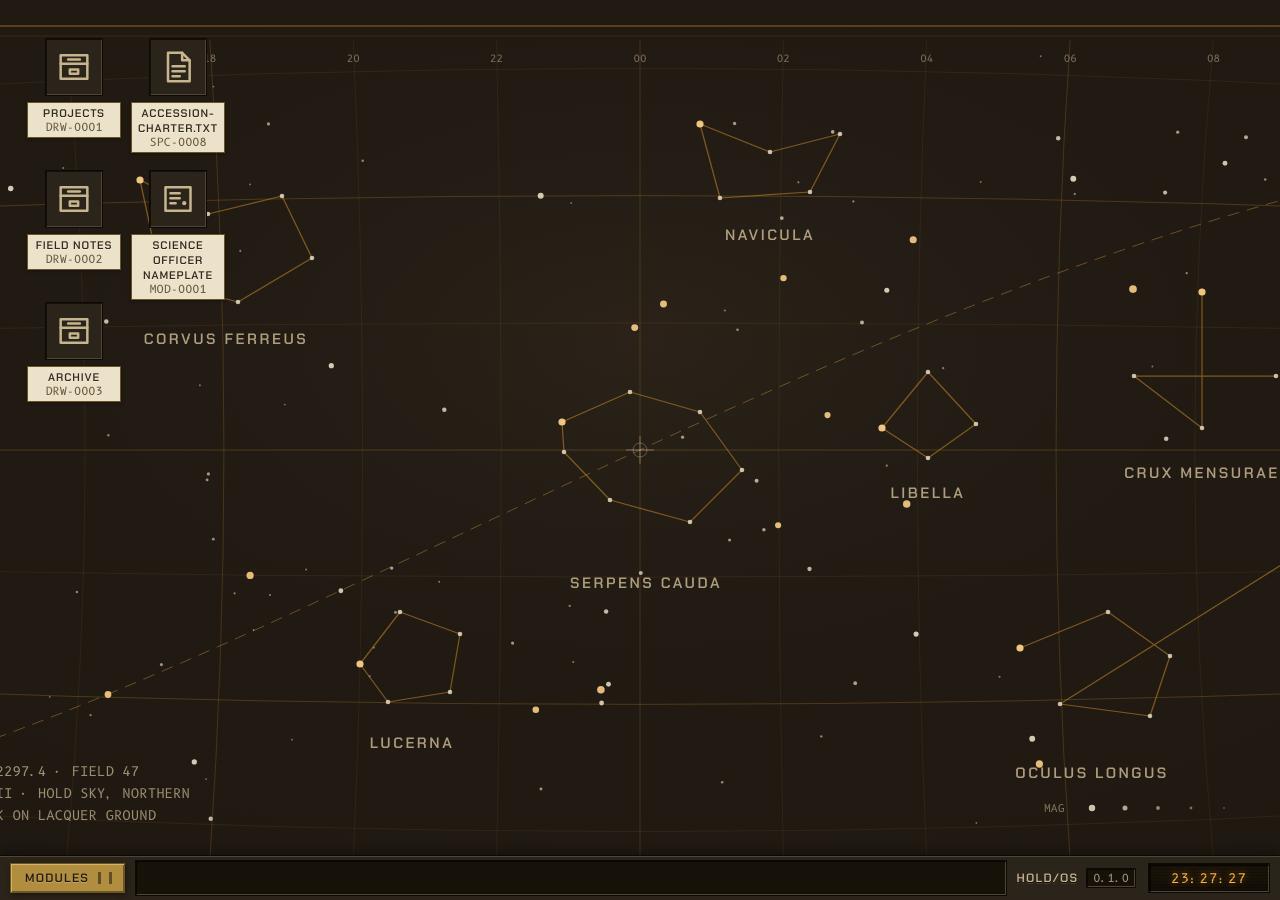
Test: UI-5 · specimen menu › a drawer's delete confirm names the subtree consequence
Step 1. Right-click the button "Projects DRW-0001" → (74,87), box [28,28,120,146]
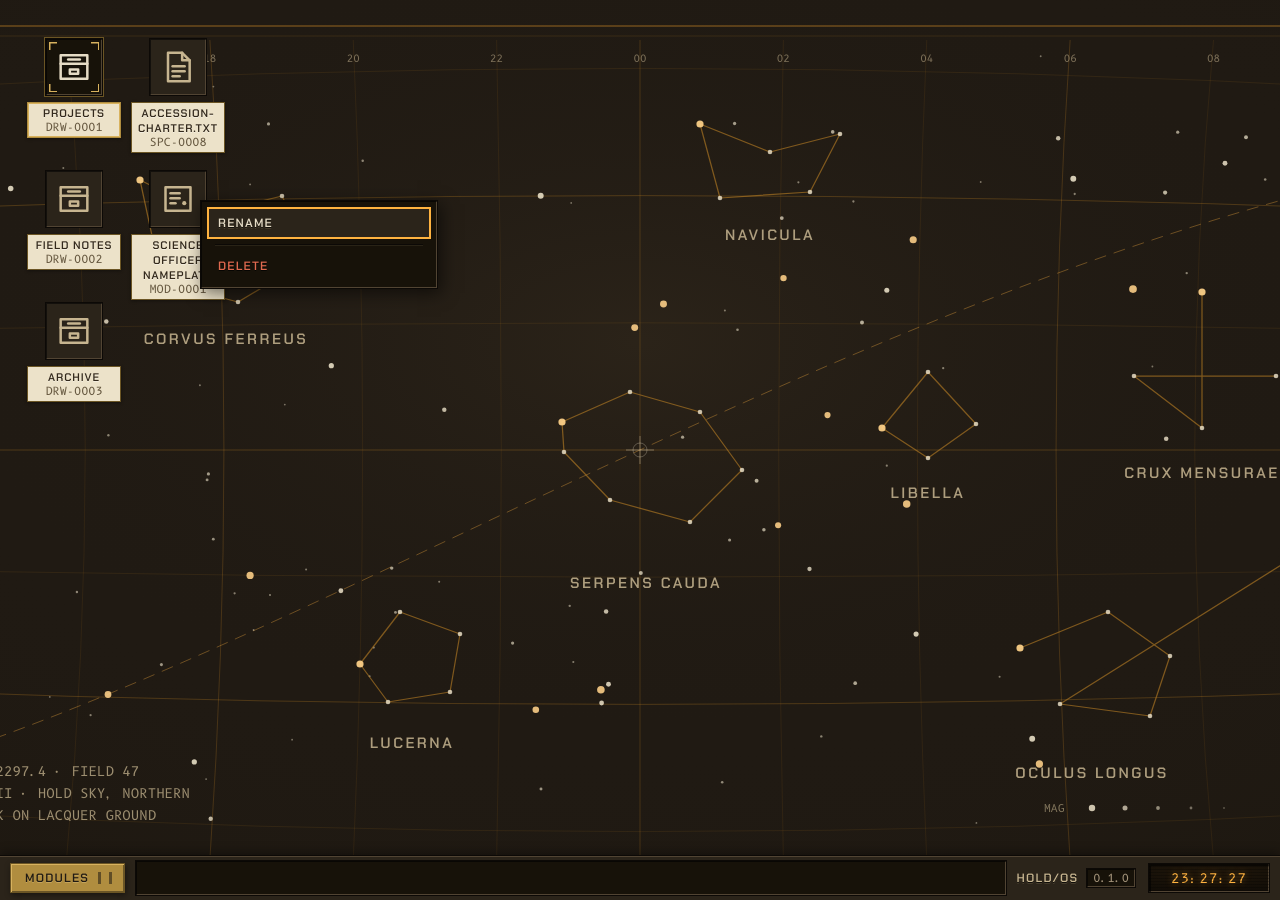
Step 2. Click the menu item "Delete" → (319,266), box [207,250,431,282]
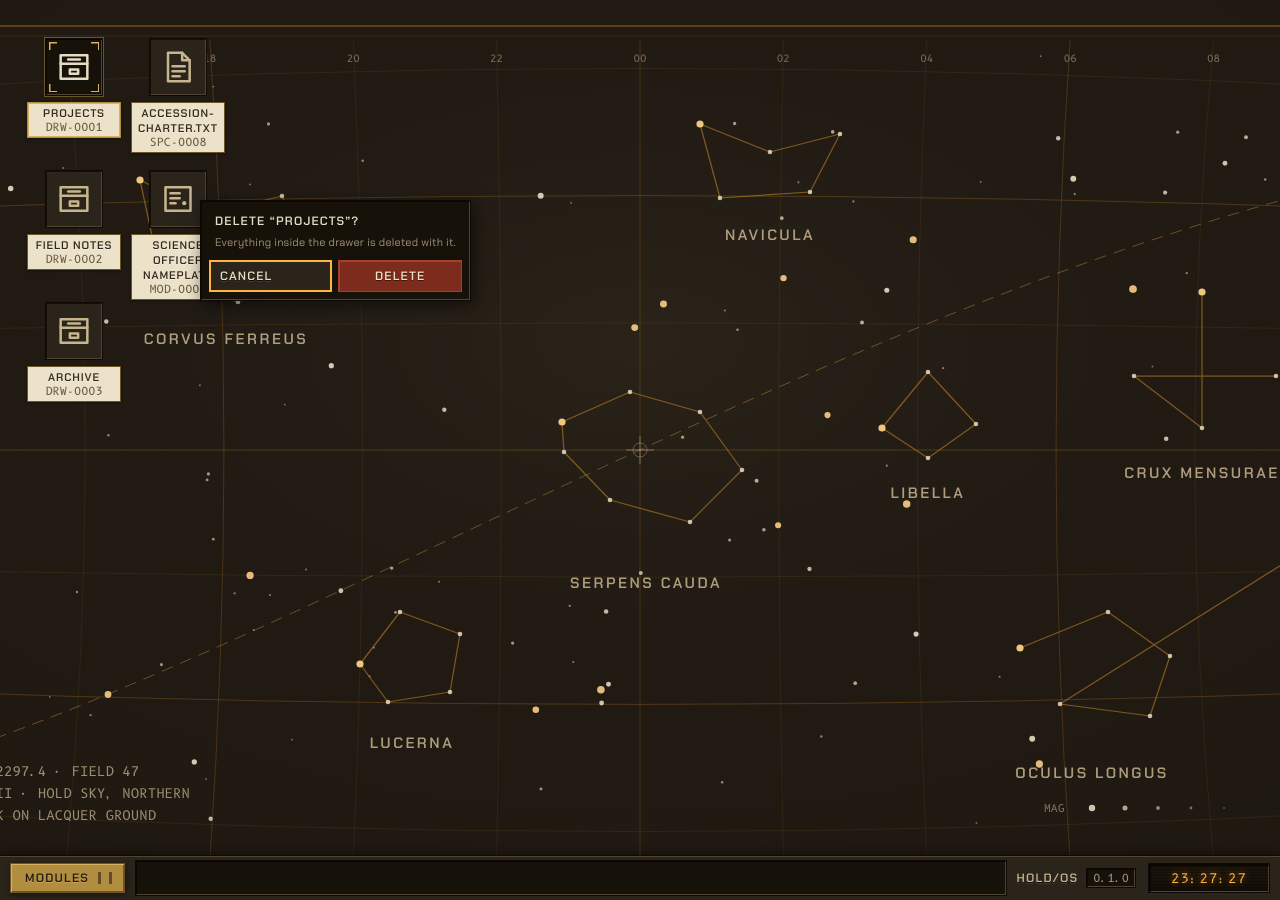
Result: the menu shows "Delete “Projects”?" at [215,213,359,229]
Result: the menu shows "Everything inside the drawer is deleted with it." at [215,235,456,249]
